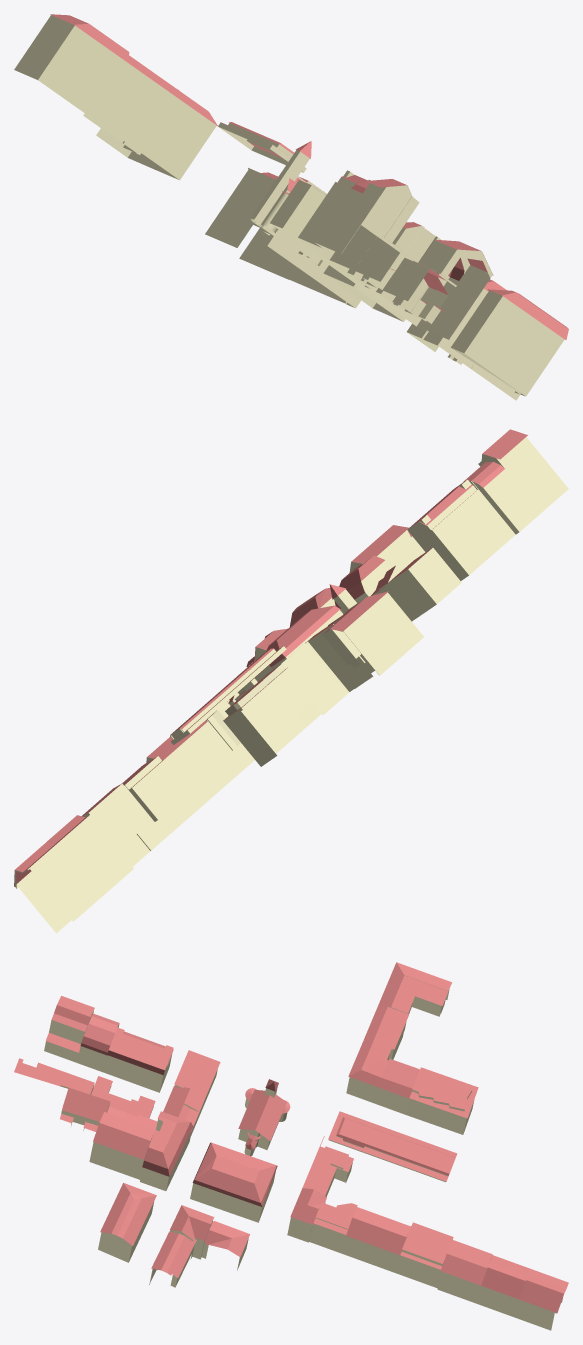
File: tile_084.glb
The picture shows the model from 3 angles, top to bottom: view 1: azimuth 30°, elevation 25°; view 2: azimuth 150°, elevation 25°; view 3: azimuth 270°, elevation 25°; orthographic projection. The views are drawn at different scales.
Visible parts, largest first — view 1: Batched_Building_ID_98054541-85D4-4942-89F5-B74D6C80259E, Batched_Building_ID_9A428693-2E95-4C2B-929E-26614D5215AC; view 2: Batched_Building_ID_98054541-85D4-4942-89F5-B74D6C80259E, Batched_Building_ID_9A428693-2E95-4C2B-929E-26614D5215AC; view 3: Batched_Building_ID_9A428693-2E95-4C2B-929E-26614D5215AC, Batched_Building_ID_98054541-85D4-4942-89F5-B74D6C80259E.
Boxes of the visible parts, x1=… form: Batched_Building_ID_98054541-85D4-4942-89F5-B74D6C80259E: x1=14, y1=15, x2=564, y2=400; Batched_Building_ID_9A428693-2E95-4C2B-929E-26614D5215AC: x1=50, y1=14, x2=568, y2=339; Batched_Building_ID_98054541-85D4-4942-89F5-B74D6C80259E: x1=14, y1=437, x2=568, y2=933; Batched_Building_ID_9A428693-2E95-4C2B-929E-26614D5215AC: x1=14, y1=429, x2=527, y2=886; Batched_Building_ID_9A428693-2E95-4C2B-929E-26614D5215AC: x1=14, y1=962, x2=568, y2=1313; Batched_Building_ID_98054541-85D4-4942-89F5-B74D6C80259E: x1=44, y1=975, x2=562, y2=1330.
Bounding box in the file's own units: 127 × 129 × 237.
